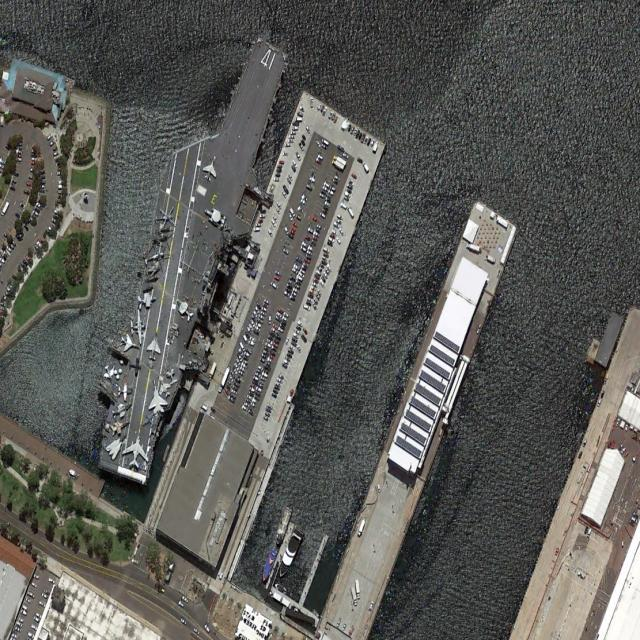Aircraft Carrier: (73, 11, 307, 505)
